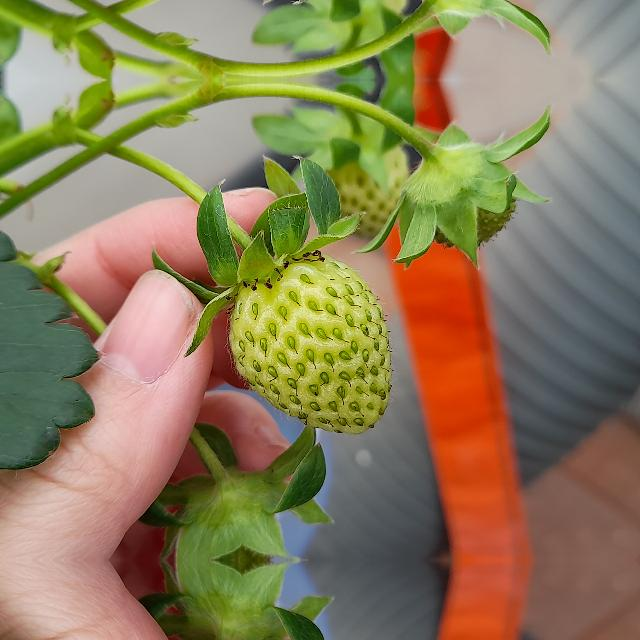Health_25: (228, 252, 392, 433)
